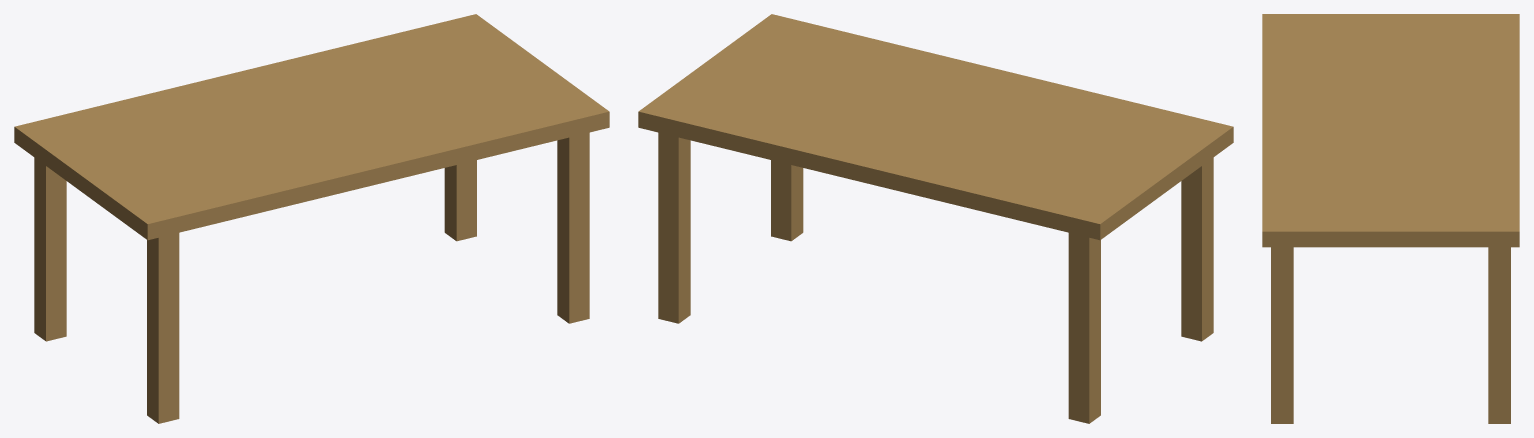
Rendered from diningTable.glb.
3 views of the same model, side by side, from view 1: azimuth 30°, elevation 25°; view 2: azimuth 150°, elevation 25°; view 3: azimuth 270°, elevation 25° (orthographic). The views are drawn at different scales.
Size of the model in its own units: 1.8 by 0.77 by 0.9.
